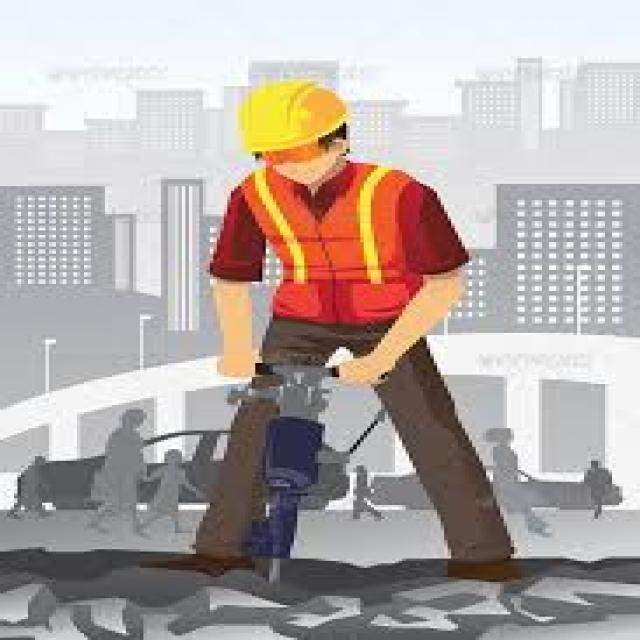Reflective-Jacket: (203, 163, 472, 354)
Safety-Helmet: (206, 67, 374, 163)
